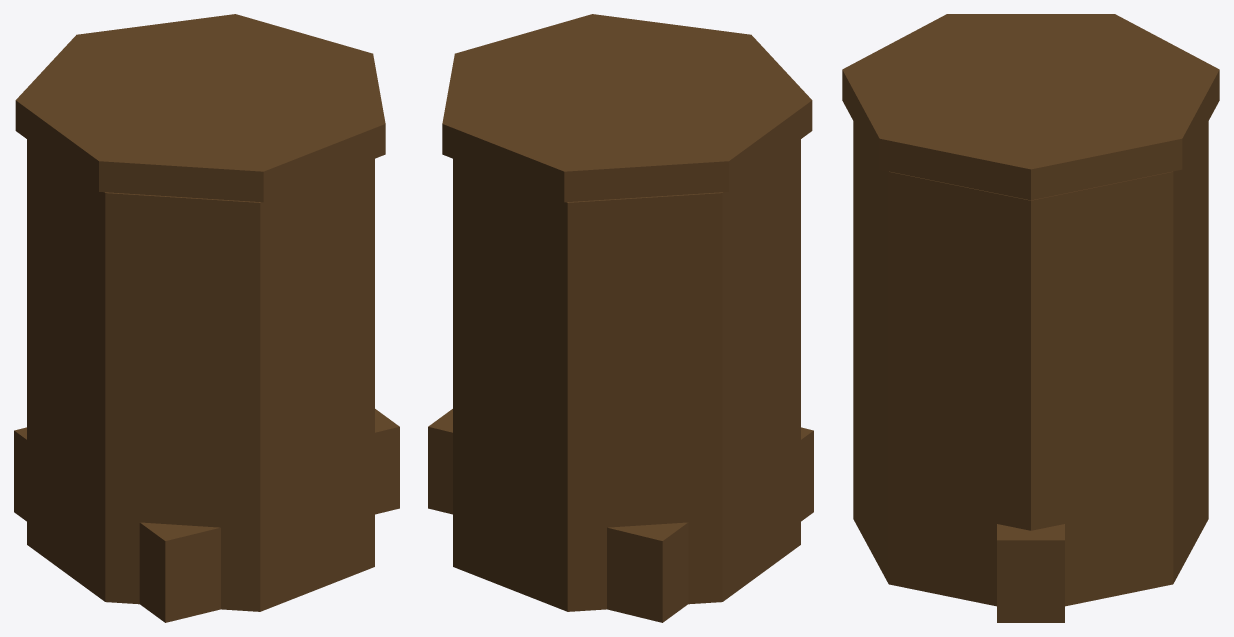
The model's file is stump.obj.
3 views of the same model, side by side, from view 1: azimuth 30°, elevation 25°; view 2: azimuth 150°, elevation 25°; view 3: azimuth 270°, elevation 25° (orthographic).
Bounding box in the file's own units: 0.1666 × 0.2175 × 0.1658.
